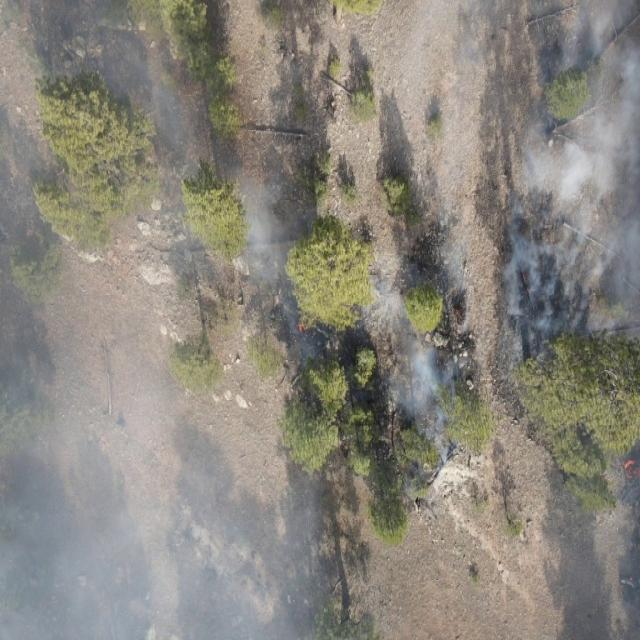fire: (623, 458, 640, 482), (298, 319, 306, 337), (452, 308, 464, 318)
smoke: (0, 170, 312, 640), (475, 0, 640, 379), (0, 0, 215, 169), (360, 251, 475, 510)
